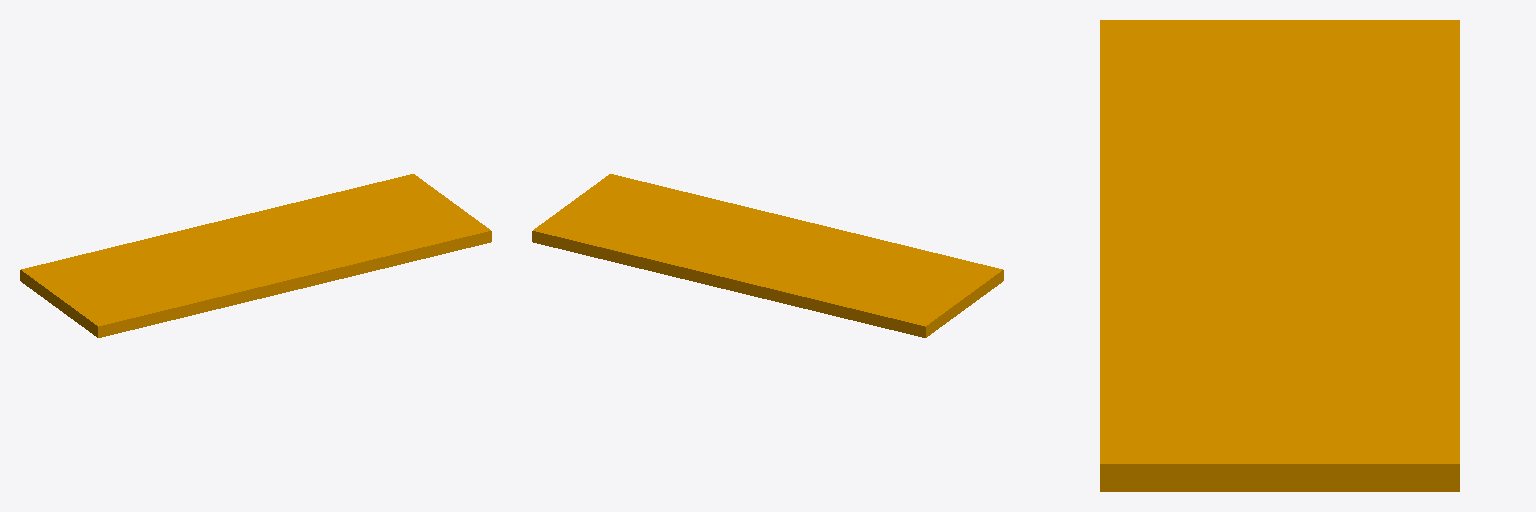
The robot description file, URDF, robot "aux_box_lemon":
<?xml version="1.0"?>
<robot name="aux_box_lemon">
    <link name="base">
        <inertial>
            <origin xyz="0 0 0" rpy="0 0 0"/>
            <mass value="0.05"/>
            <inertia ixx="0.000683333" ixy="0" ixz="0" iyy="0.000683333" iyz="0" izz="0.000683333"/>
        </inertial>
        <visual>
            <origin xyz="0.0 0.0 0.0" rpy="0 0 0"/>
            <geometry>
                <box size="1.75 0.6 0.05"/>
            </geometry>
        </visual>
        <collision>
            <origin xyz="0.0 0.0 0.0" rpy="0 0 0"/>
            <geometry>
                <box size="1.75 0.6 0.05"/>
            </geometry>
        </collision>
    </link>
</robot>

--- What the picture shows (computed from the rendered views, not written in the file) ---
Views: 3 orthographic renders of the robot side by side, from view 1: azimuth 30°, elevation 25°; view 2: azimuth 150°, elevation 25°; view 3: azimuth 270°, elevation 25°.
Robot: aux_box_lemon — 1 links, 0 joints (none); root link base; default pose: all joints at 0.
Visible links, largest first — view 1: base; view 2: base; view 3: base.
Link boxes in pixels (box(x1,y1,x2,y2)): base: box(20, 174, 491, 337); base: box(532, 174, 1003, 337); base: box(1100, 20, 1459, 491).
Size in the robot's own frame: 1.75 by 0.6 by 0.05 metres.
Geometry: primitives only (box / cylinder / sphere), no mesh files.